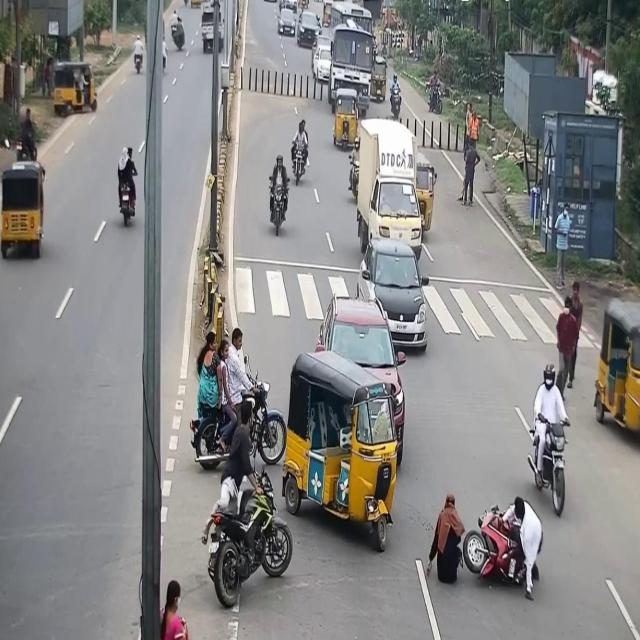accident: (418, 478, 548, 604)
non_accident: (347, 114, 433, 362), (305, 23, 423, 151), (271, 2, 321, 48), (186, 0, 214, 14)
